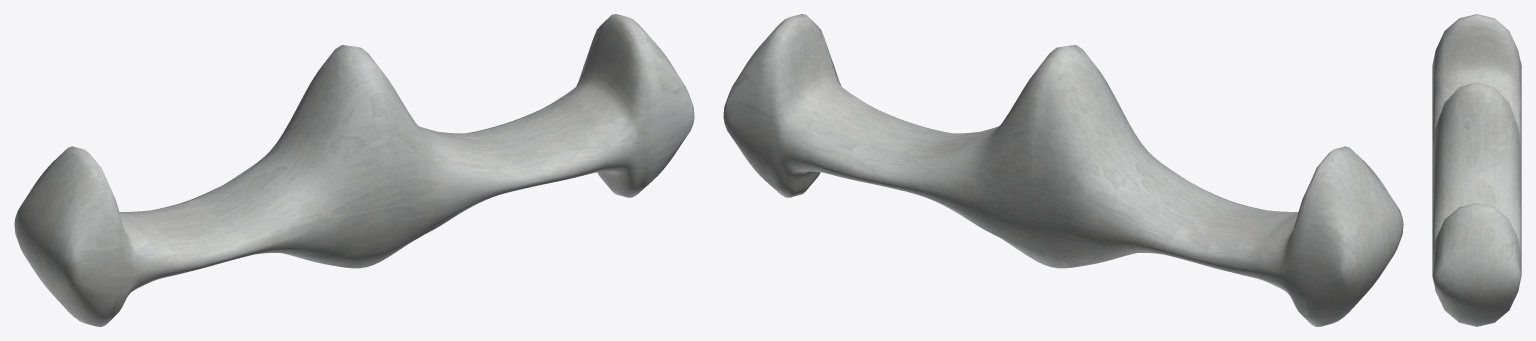
File: Guard_1.fbx
3 views of the same model, side by side, from view 1: azimuth 30°, elevation 25°; view 2: azimuth 150°, elevation 25°; view 3: azimuth 270°, elevation 25° (orthographic). The views are drawn at different scales.
Parts seen in each view (by area): view 1: Cube.003; view 2: Cube.003; view 3: Cube.003.
Boxes of the visible parts, x1=… form: Cube.003: x1=14, y1=14, x2=694, y2=326; Cube.003: x1=723, y1=14, x2=1403, y2=326; Cube.003: x1=1432, y1=14, x2=1521, y2=326.
Bounding box in the file's own units: 15.52 × 5.11 × 2.65.
